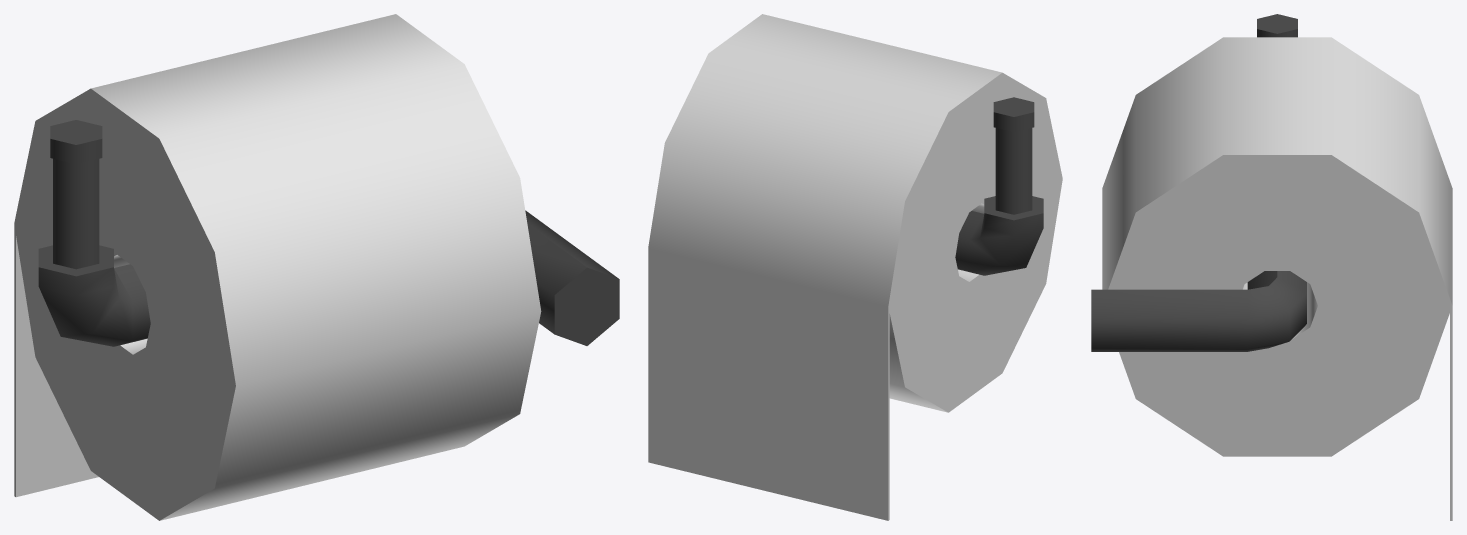
Rendered from Hea_Ba_Toiletpaper_single.fbx.
The picture shows the model from 3 angles, left to right: view 1: azimuth 30°, elevation 25°; view 2: azimuth 150°, elevation 25°; view 3: azimuth 270°, elevation 25°; orthographic projection. The views are drawn at different scales.
Parts seen in each view (by area): view 1: Toilet_Paper_I3; view 2: Toilet_Paper_I3; view 3: Toilet_Paper_I3.
Part boxes in pixels (box(x1,y1,x2,y2)): Toilet_Paper_I3: box(14, 14, 619, 520); Toilet_Paper_I3: box(648, 14, 1062, 520); Toilet_Paper_I3: box(1091, 14, 1452, 520).
Bounding box in the file's own units: 37.41 × 35.78 × 31.98.
